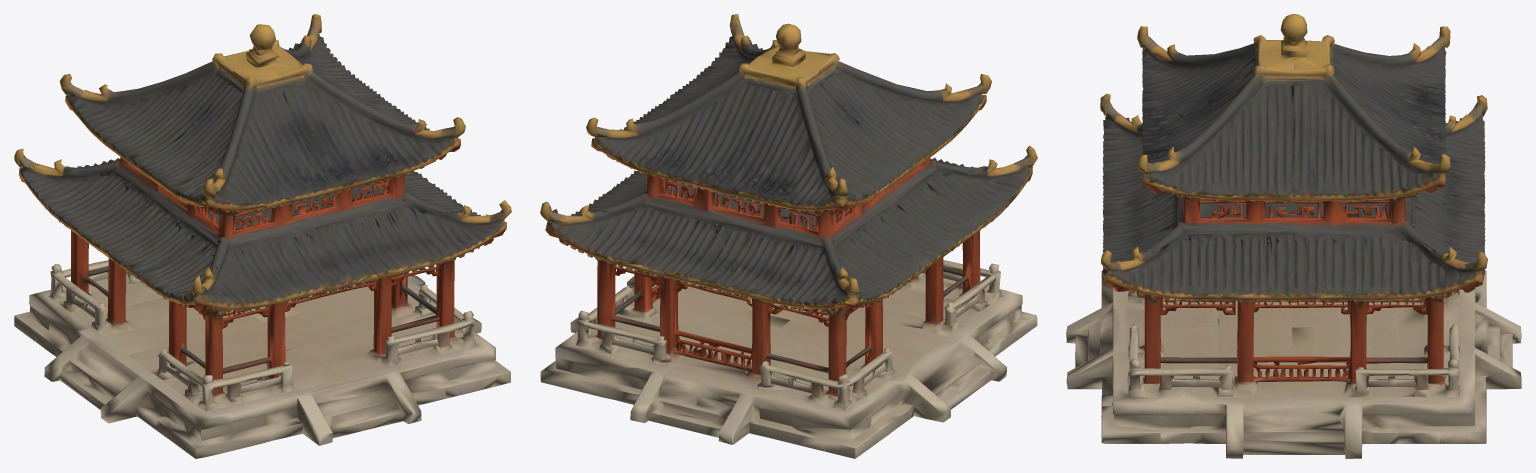
Rendered from huxinting.glb.
3 views of the same model, side by side, from view 1: azimuth 30°, elevation 25°; view 2: azimuth 150°, elevation 25°; view 3: azimuth 270°, elevation 25° (orthographic). The views are drawn at different scales.
Parts seen in each view (by area): view 1: tripo_node_94c8e9cd-8541-42f0-8160-122d1f61e82d; view 2: tripo_node_94c8e9cd-8541-42f0-8160-122d1f61e82d; view 3: tripo_node_94c8e9cd-8541-42f0-8160-122d1f61e82d.
Boxes of the visible parts, x1,y1,x2,y2 form: tripo_node_94c8e9cd-8541-42f0-8160-122d1f61e82d: [14, 14, 511, 458]; tripo_node_94c8e9cd-8541-42f0-8160-122d1f61e82d: [540, 14, 1037, 458]; tripo_node_94c8e9cd-8541-42f0-8160-122d1f61e82d: [1066, 14, 1521, 458].
Bounding box in the file's own units: 0.9806 × 0.8263 × 0.9799.
1 material, 1 textured.
